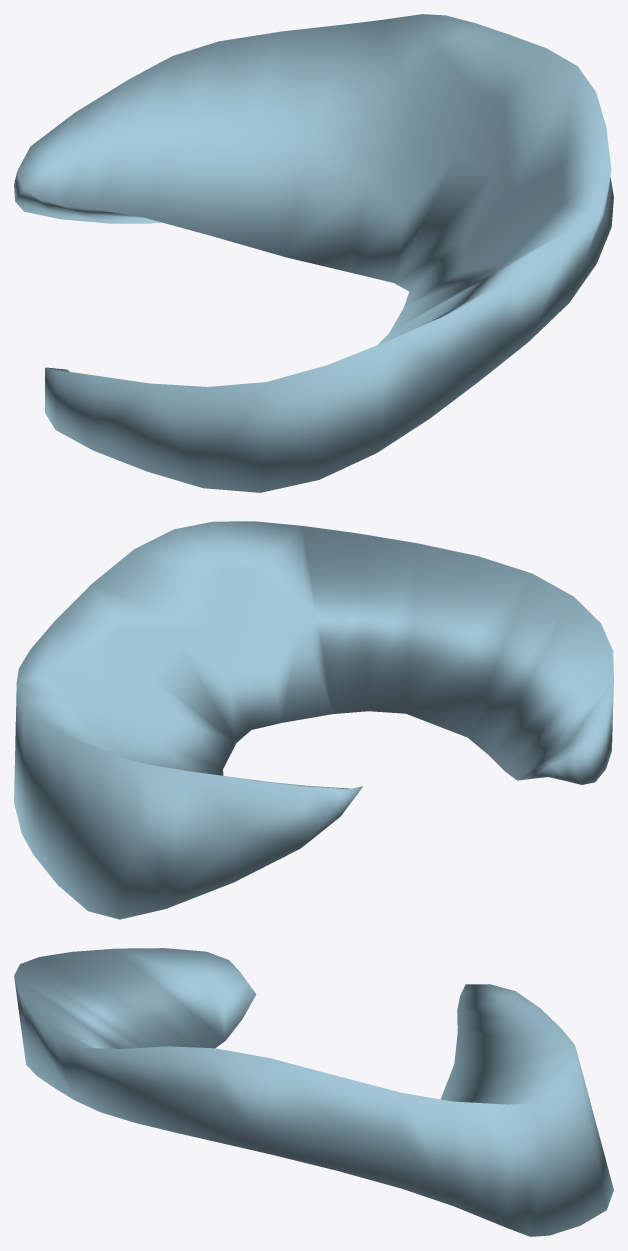
File: articulacoes-lateral-meniscus-l.glb
3 renders of one model, top to bottom at view 1: azimuth 30°, elevation 25°; view 2: azimuth 150°, elevation 25°; view 3: azimuth 270°, elevation 25°, orthographic. The views are drawn at different scales.
Visible parts, largest first — view 1: Lateral meniscus.l; view 2: Lateral meniscus.l; view 3: Lateral meniscus.l.
Boxes of the visible parts, x1,y1,x2,y2 form: Lateral meniscus.l: (14, 14, 613, 492); Lateral meniscus.l: (14, 521, 613, 919); Lateral meniscus.l: (14, 948, 613, 1236).
Size of the model in its own units: 0.0338 by 0.0153 by 0.0387.
